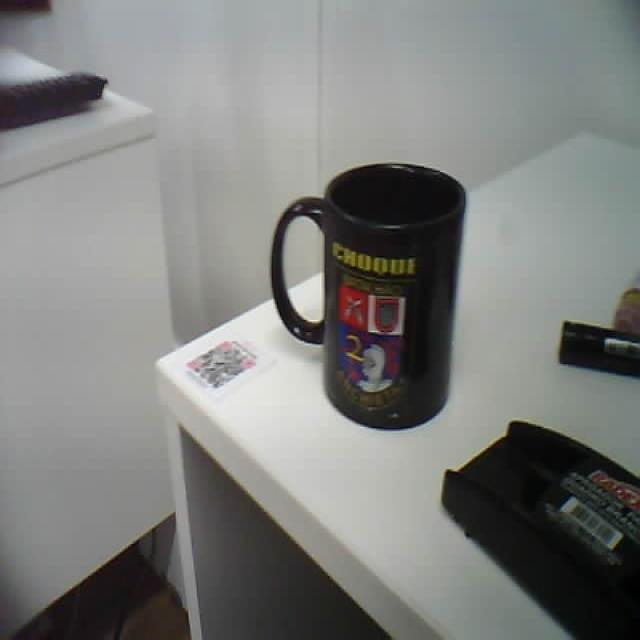caneca: (271, 164, 465, 428)
